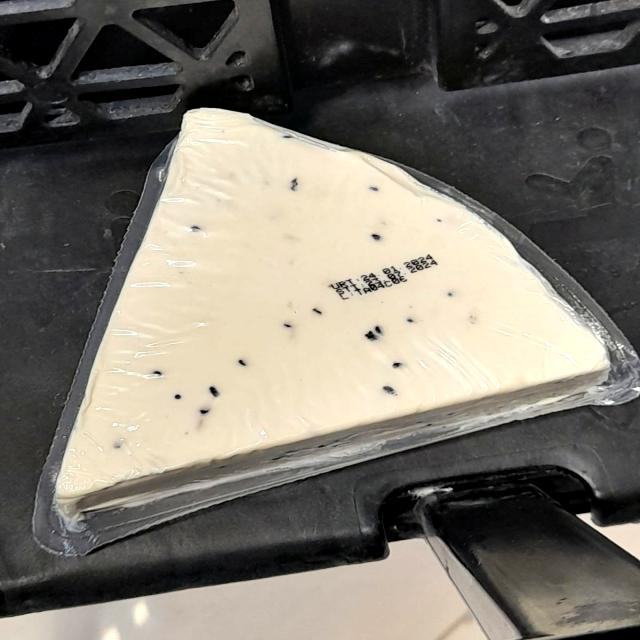cheese: (9, 113, 640, 503)
